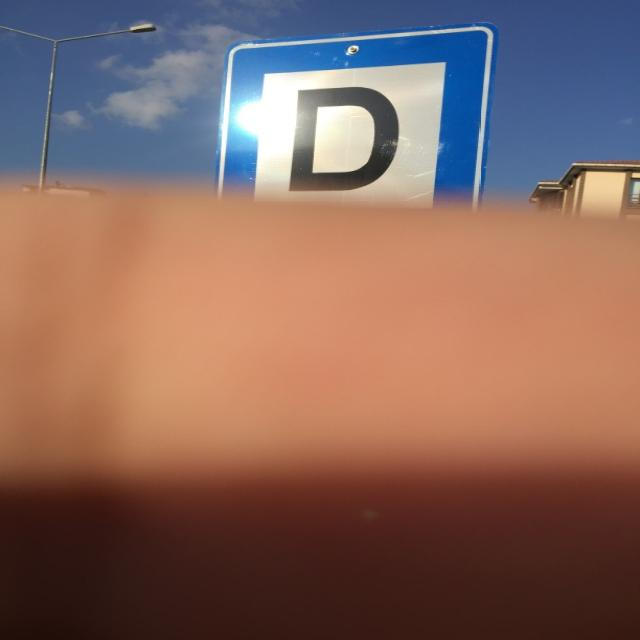durak: (215, 34, 486, 232)
